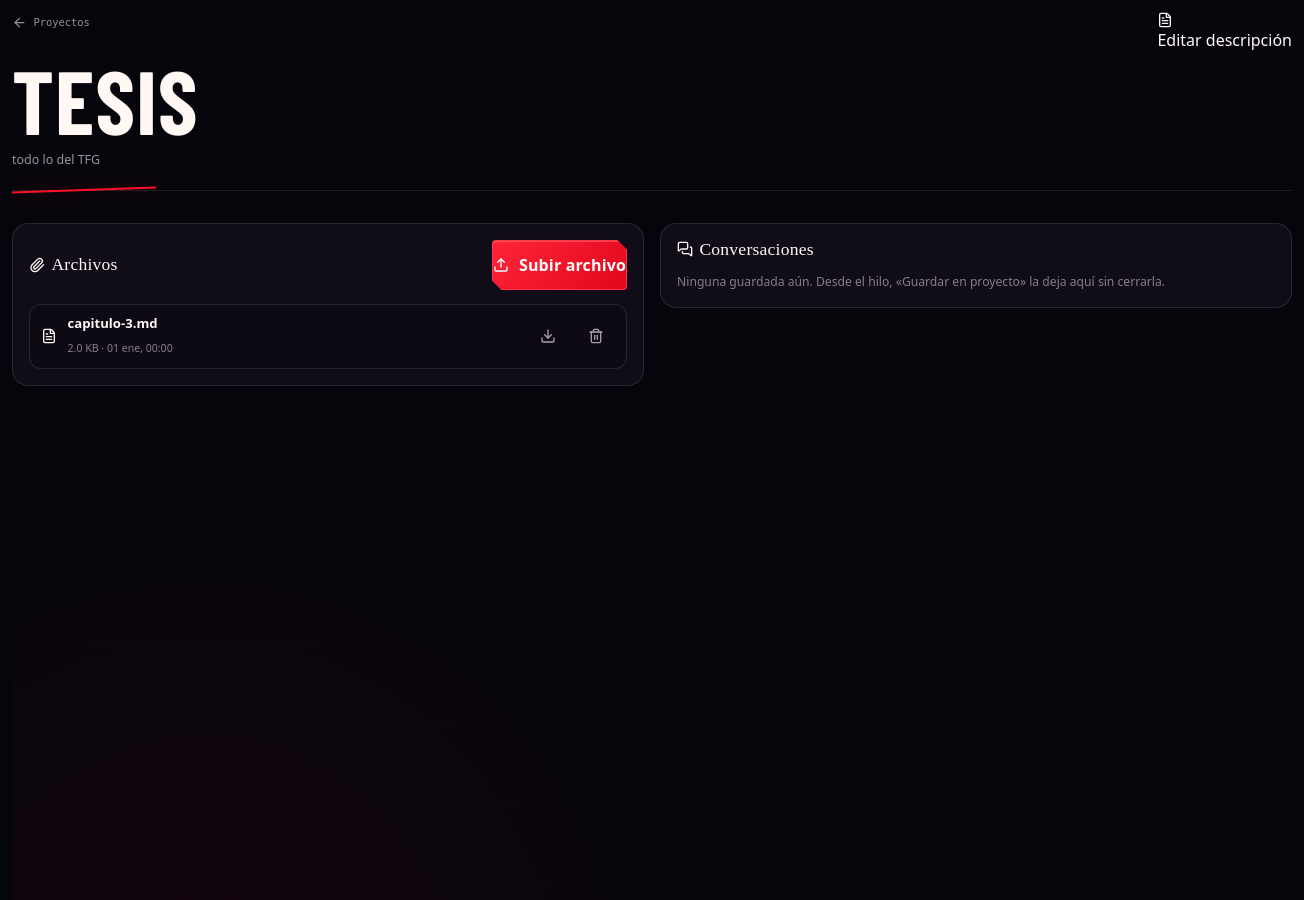
it: ProjectDetailPage › saca un archivo del proyecto diciendo que no lo borra
Click the button named "Sacar capitulo-3.md del proyecto": (596, 336) [577, 317, 615, 355]
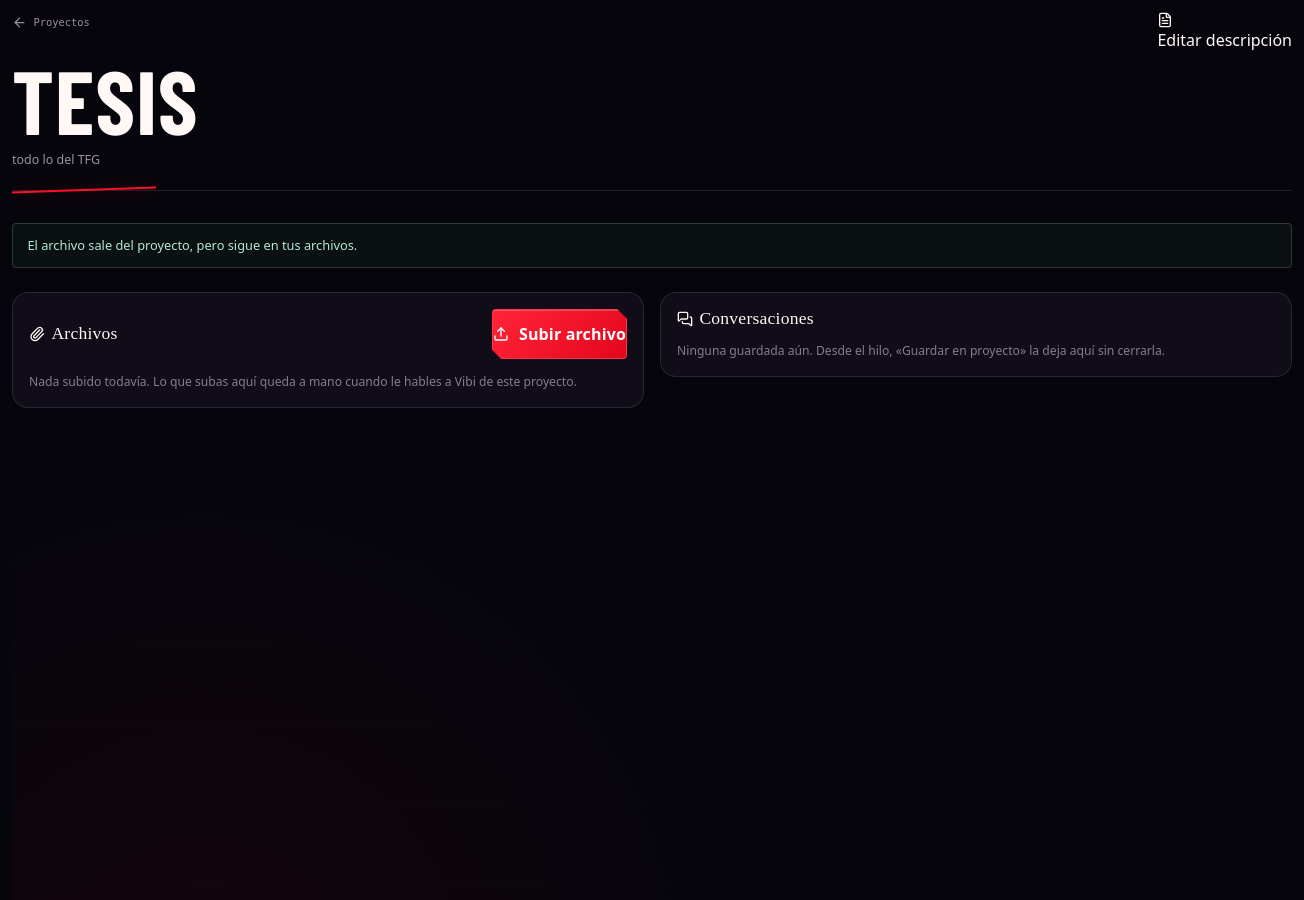
Check: the text "El archivo sale del proyecto, pero sigue en tus archivos." is shown, box [12, 223, 1292, 268]
